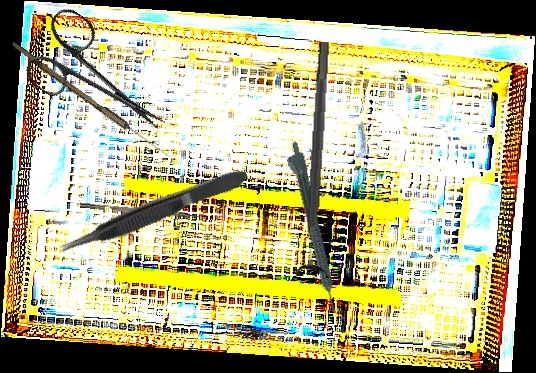Chopper: (79, 196, 206, 221)
Fixation Ring: (293, 41, 344, 278)
Handpiece: (281, 140, 341, 316)
Iris Scissors: (15, 3, 188, 159)
Surgical Spoon: (8, 41, 173, 160)
Tissue Forceps: (53, 164, 252, 261)
